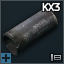Noveske KX3 5.56x45 flash hider: (0, 0, 64, 64)
